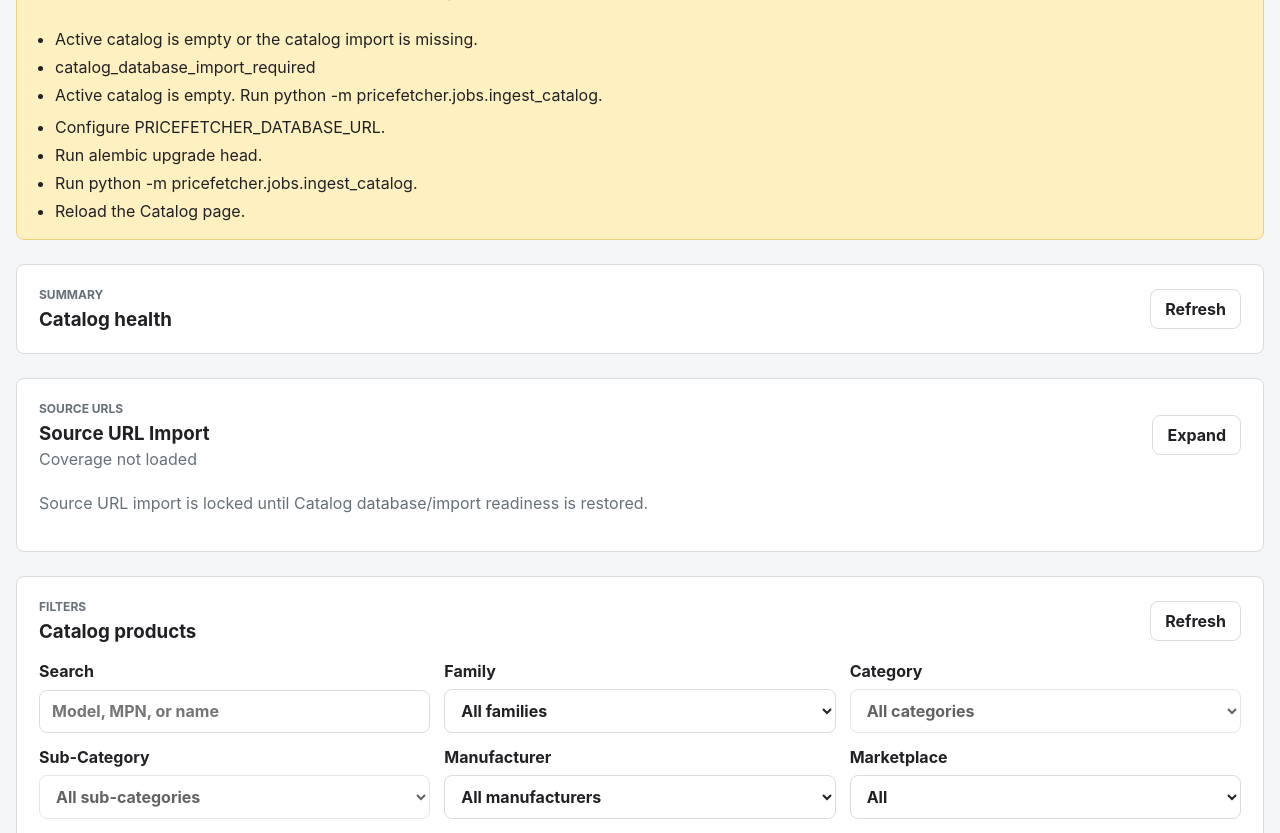
Scenario: platform mocked page smoke tests › shows Catalog database/import-required state for structured Catalog 503 responses
(page scrolled)
Expected: the list item "Run alembic upgrade head." is shown, x1=55 y1=145 x2=262 y2=165
Expected: the list item "Run python -m pricefetcher.jobs.ingest_catalog." is shown, x1=55 y1=173 x2=418 y2=193
Click the button "Expand". click: {"x": 1197, "y": 435}
box: x1=1152 y1=415 x2=1241 y2=455
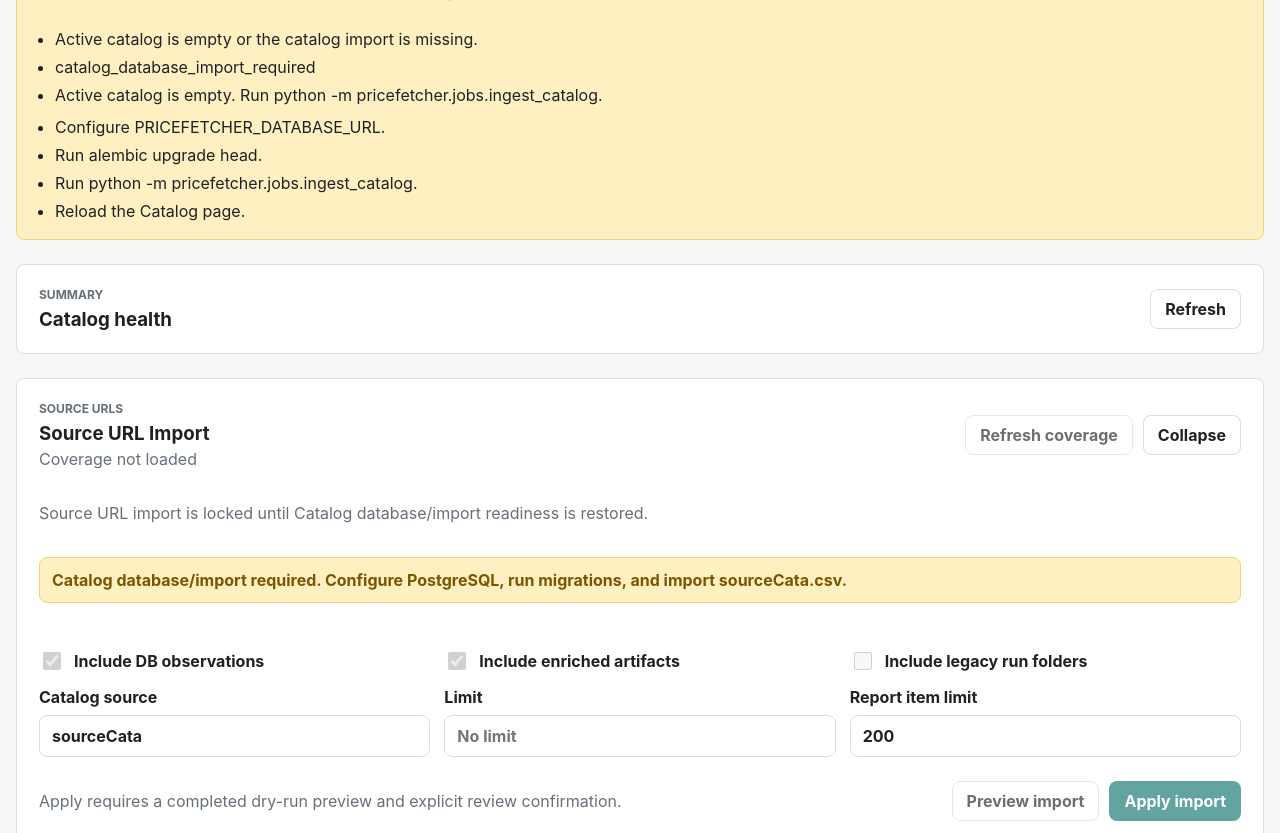
Expected: the text "Source URL import is locked until Catalog database/import readiness is restored." is shown, x1=39 y1=503 x2=648 y2=523
Now the button "Preview import" is disabled, box x1=952 y1=781 x2=1099 y2=821
Now the button "Apply import" is disabled, box x1=1109 y1=781 x2=1241 y2=821
